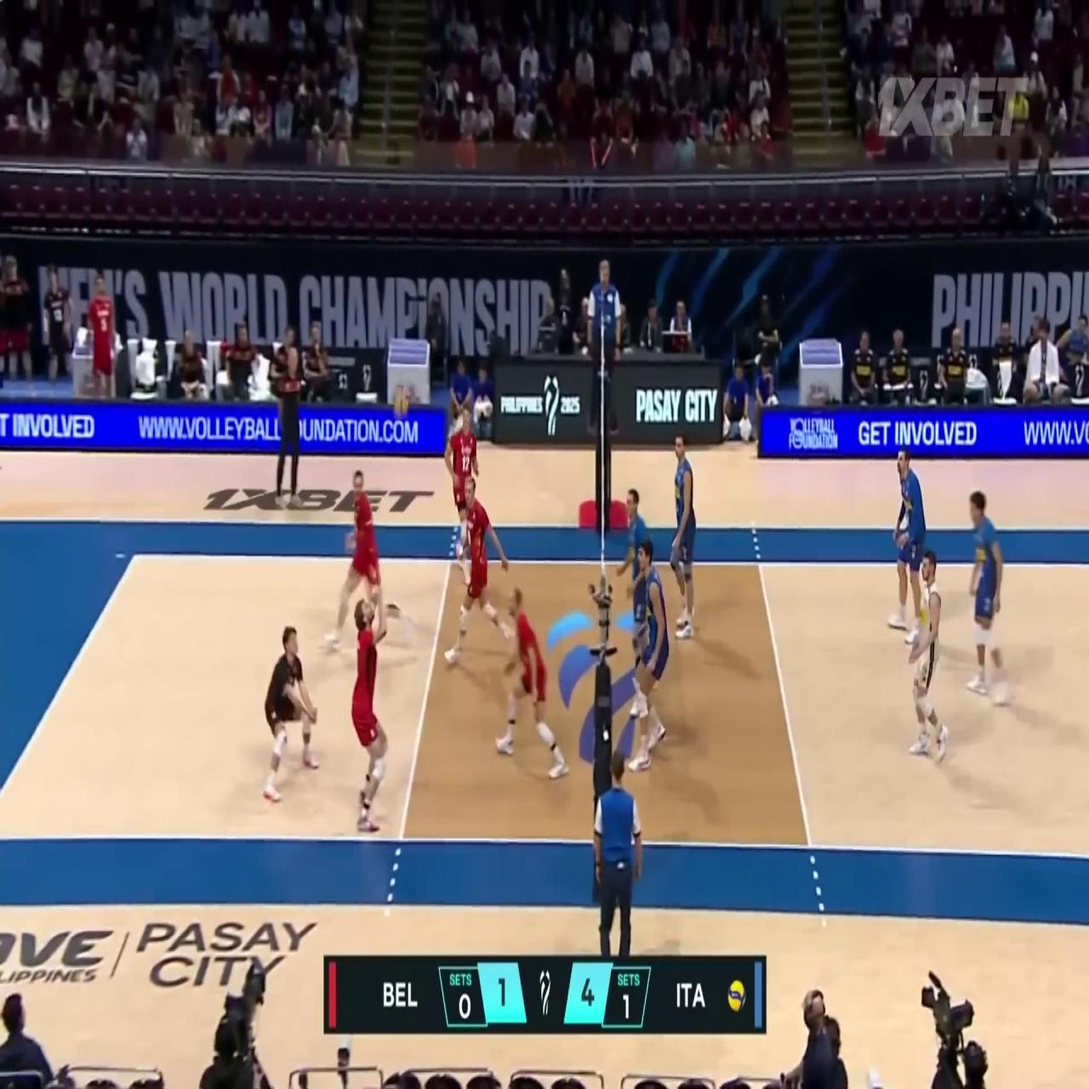ball: (394, 386, 409, 416)
